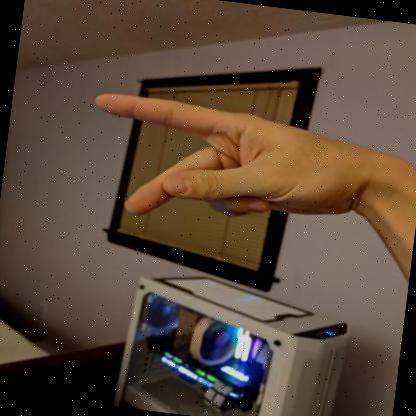P: (95, 93, 374, 219)
